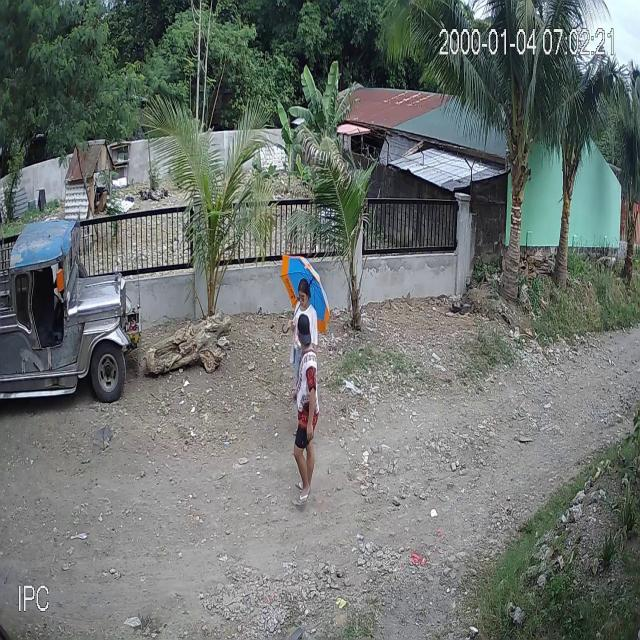walking: (280, 249, 332, 444), (291, 312, 325, 507)
